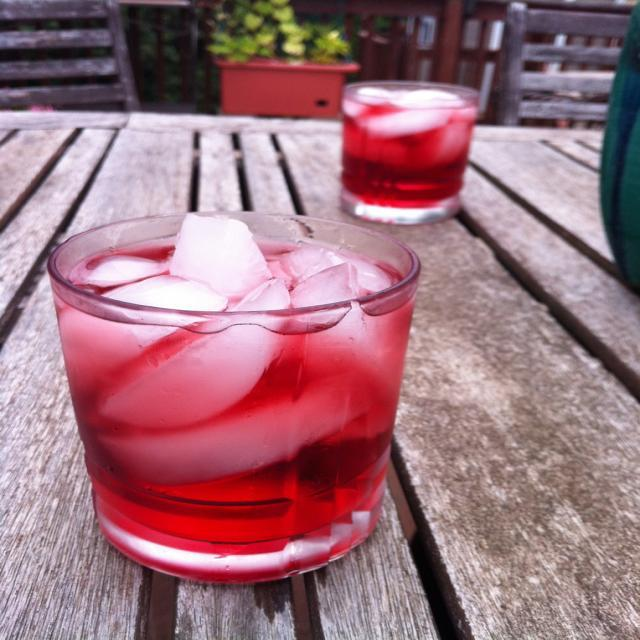Juice: (60, 215, 422, 577), (338, 88, 474, 210)
